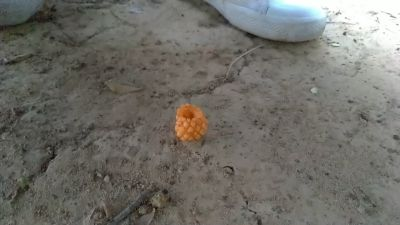eggs: (172, 98, 209, 143)
